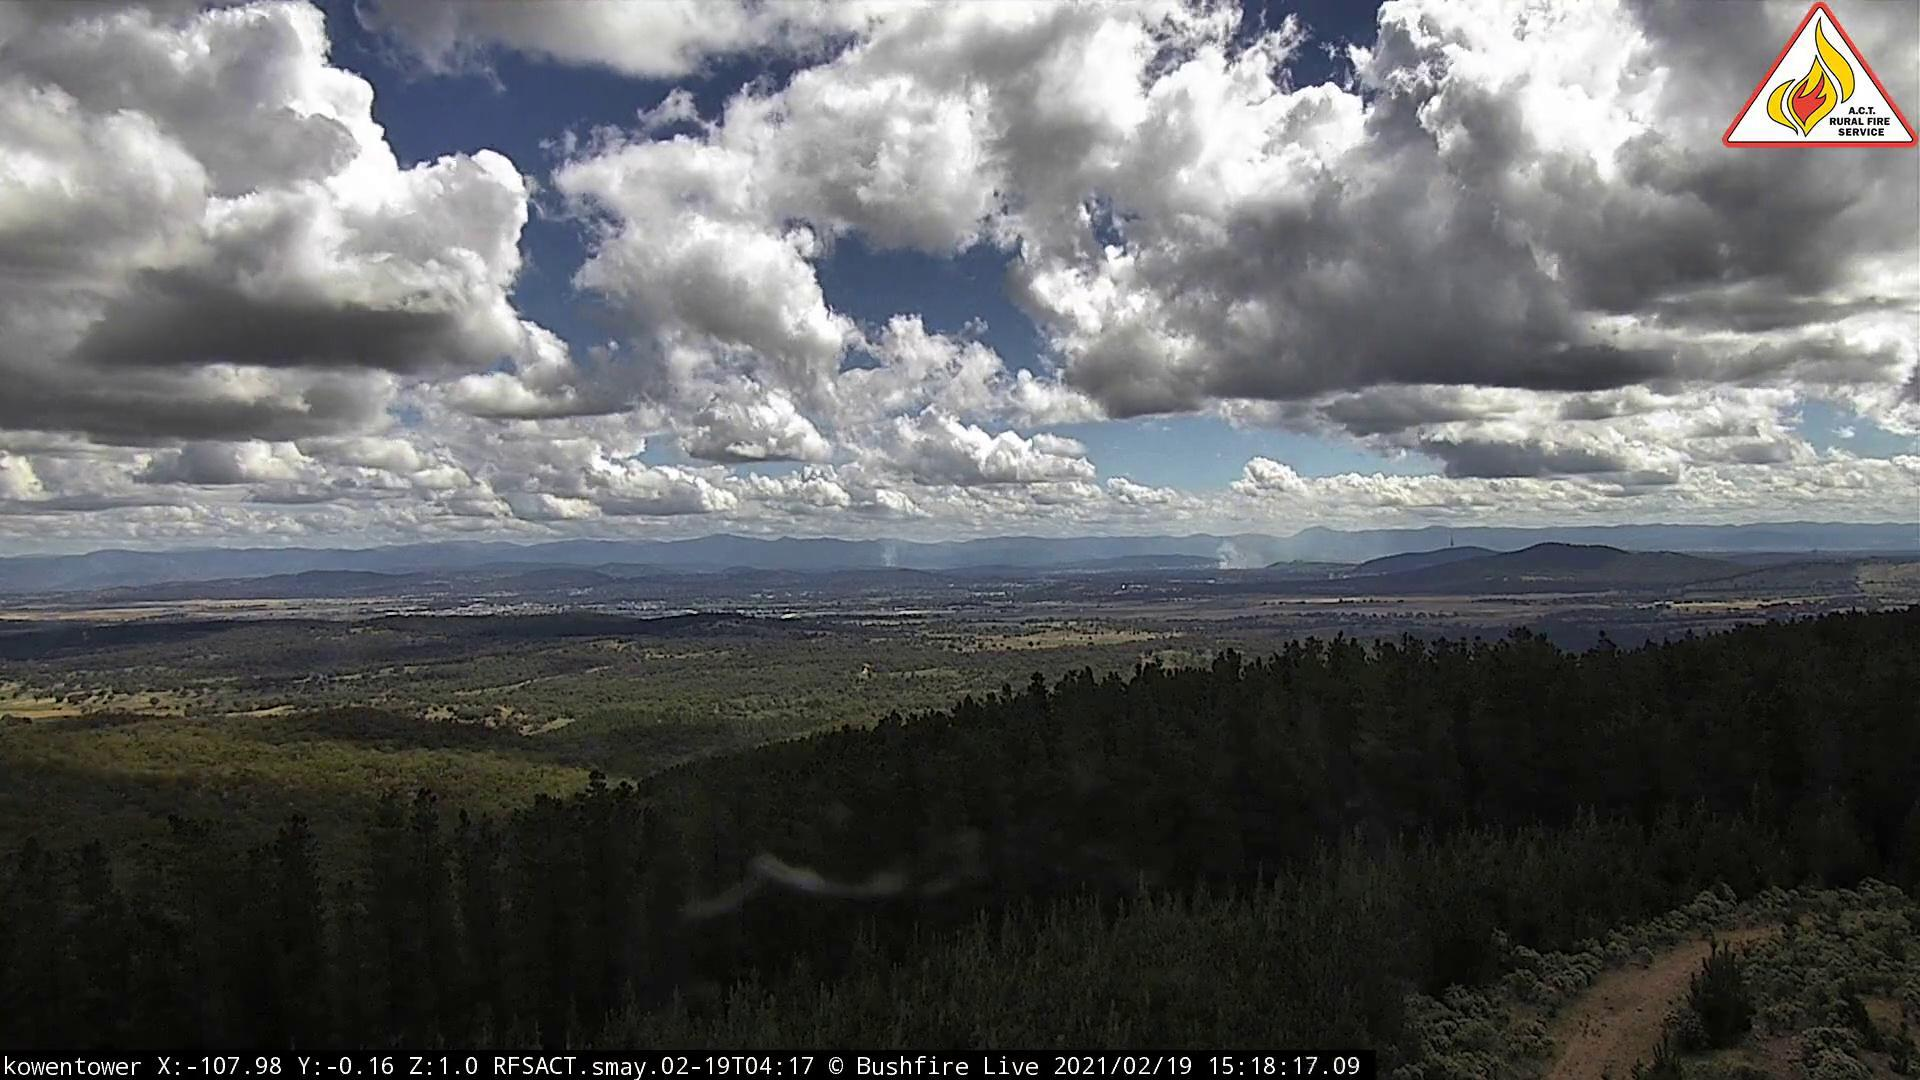Smoke: (1218, 531, 1274, 578), (872, 539, 916, 574)
